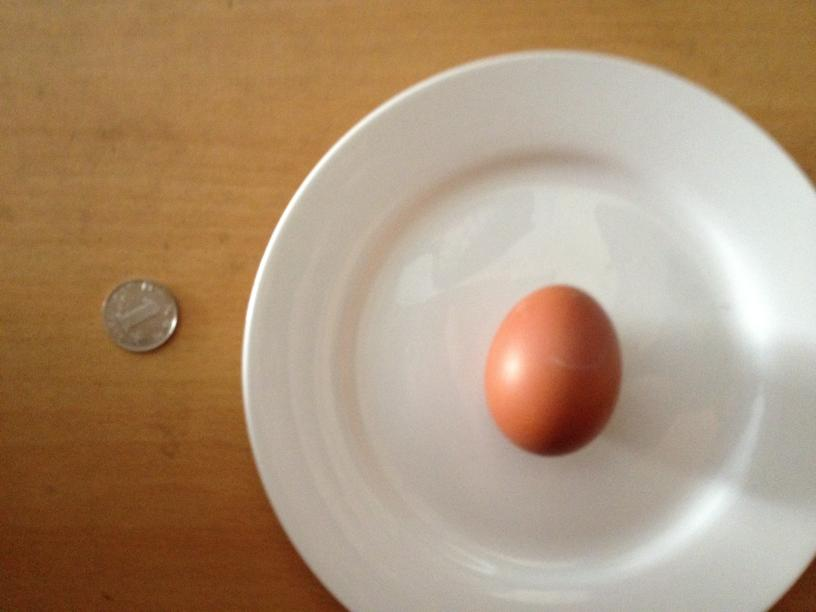coin: (101, 276, 178, 353)
egg: (488, 285, 620, 455)
